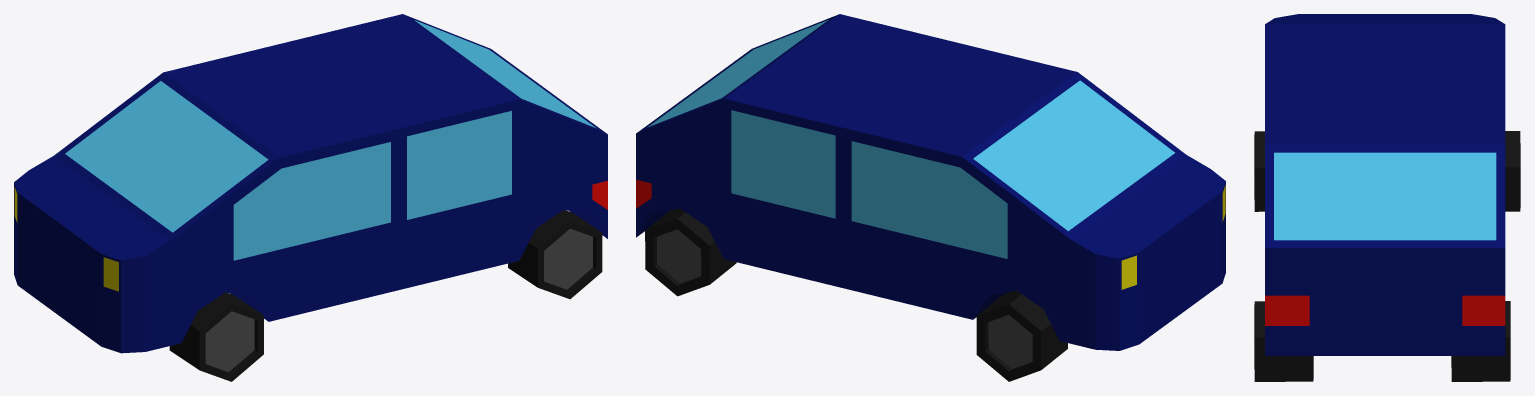
Rendered from tinycar.fbx.
3 renders of one model, left to right at view 1: azimuth 30°, elevation 25°; view 2: azimuth 150°, elevation 25°; view 3: azimuth 270°, elevation 25°, orthographic. The views are drawn at different scales.
Parts seen in each view (by area): view 1: Cube; view 2: Cube; view 3: Cube.
Part boxes in pixels (left/top/right/bottom): Cube: left=14, top=14, right=607, bottom=381; Cube: left=636, top=14, right=1225, bottom=381; Cube: left=1254, top=14, right=1520, bottom=381.
Size of the model in its own units: 82.76 by 33.57 by 37.82.
